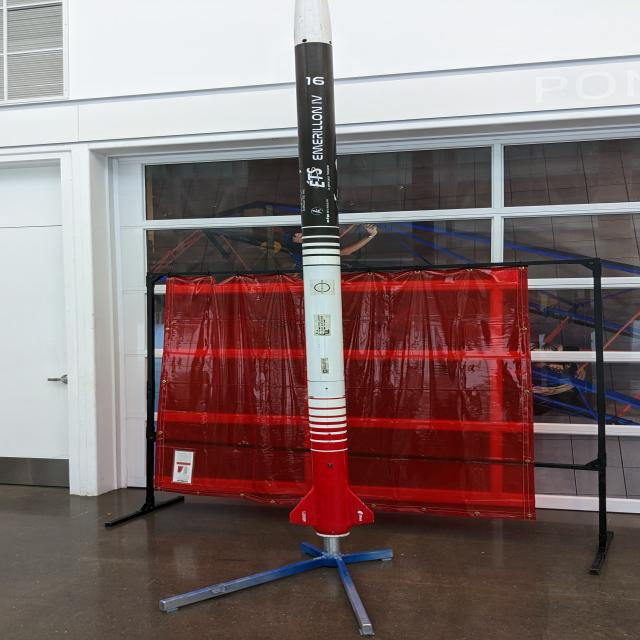Rocket: (290, 0, 375, 537)
